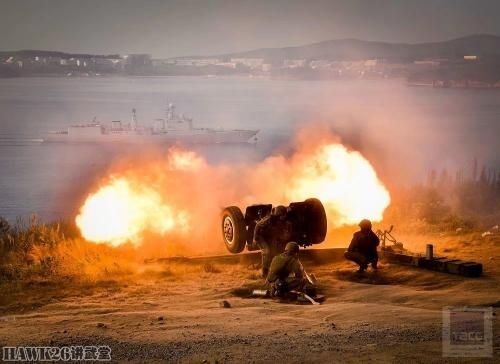fire: (280, 138, 394, 230), (73, 170, 186, 246)
